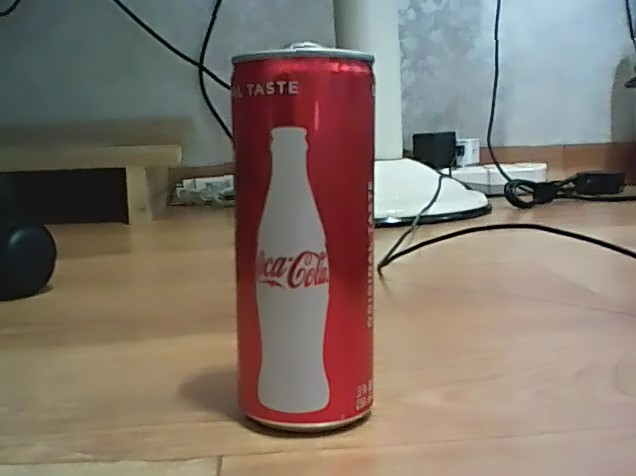Can: (223, 38, 382, 434)
